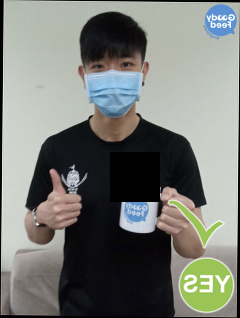with_mask: (85, 54, 144, 121)
